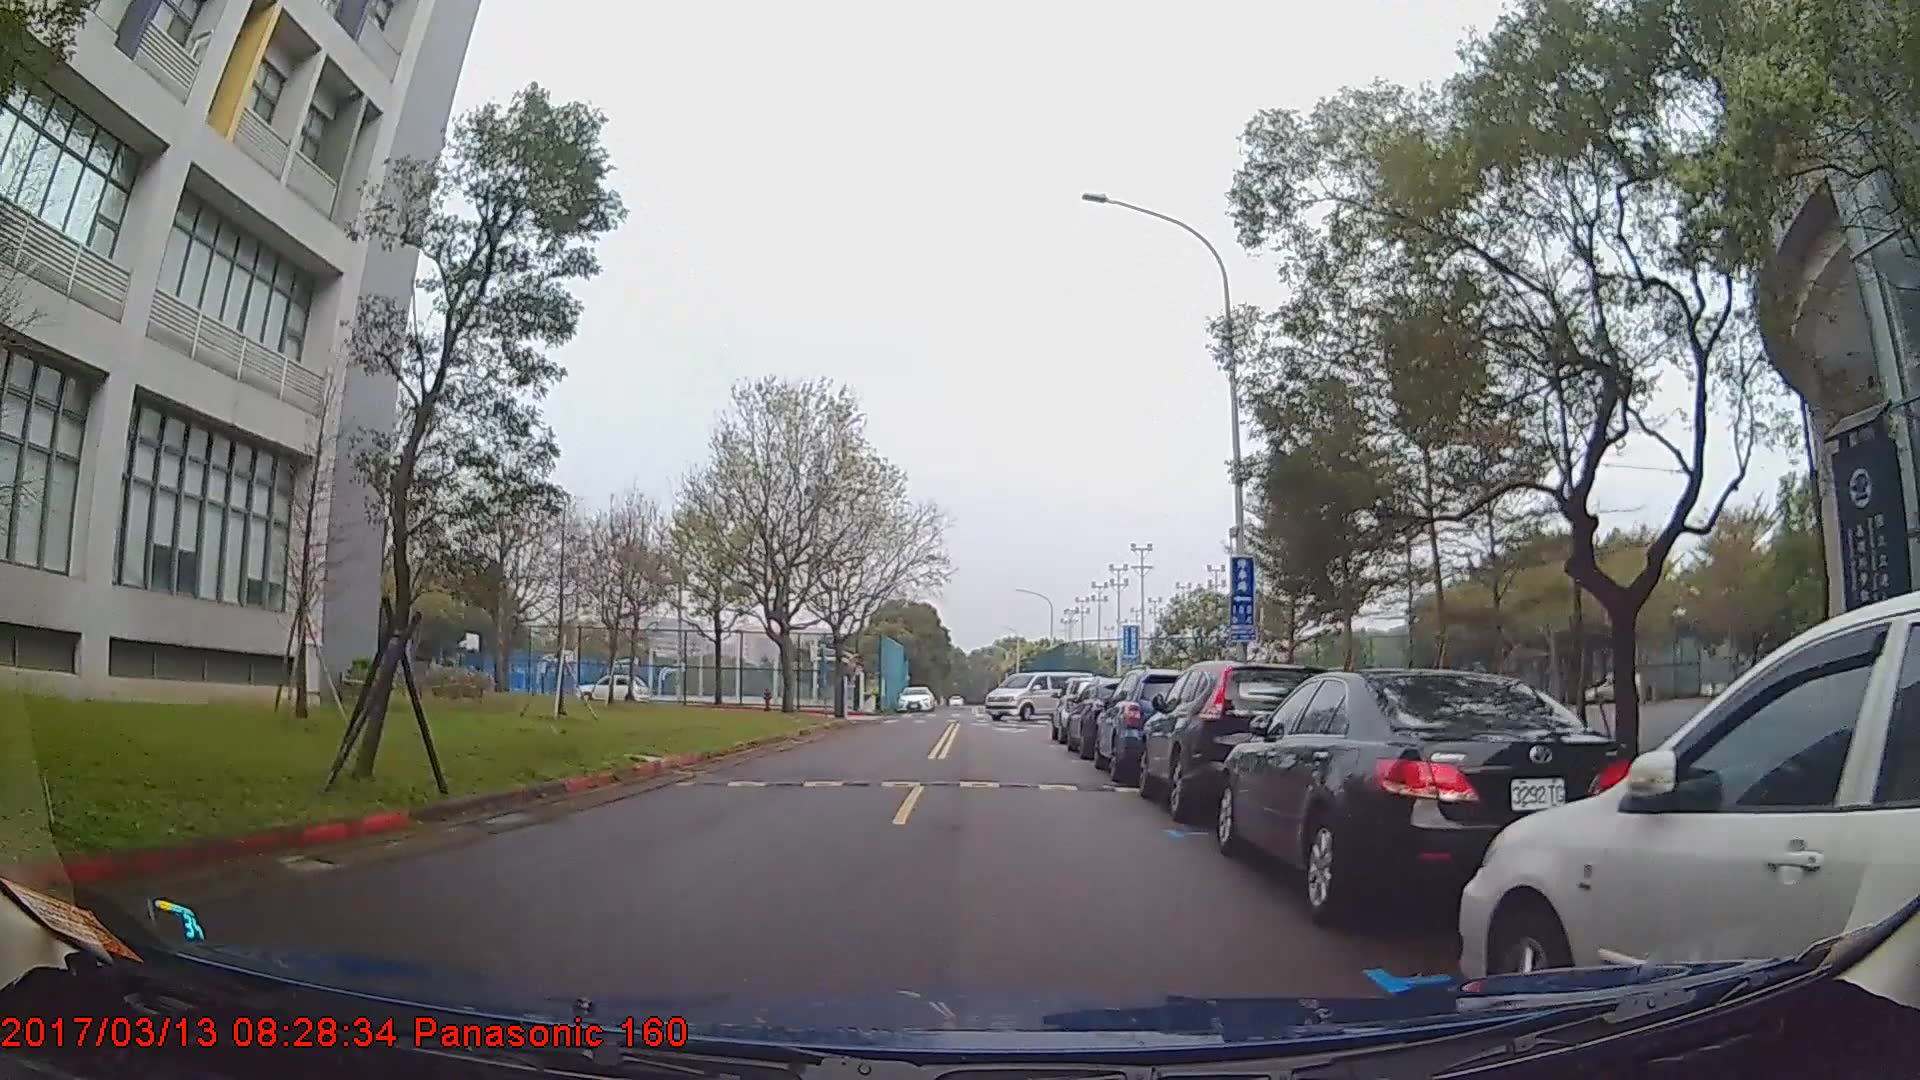vehicle: (1456, 587, 1920, 1034), (1215, 669, 1638, 920), (1135, 657, 1338, 819), (1093, 666, 1204, 781), (985, 669, 1095, 720), (574, 670, 650, 702), (895, 683, 936, 711)
